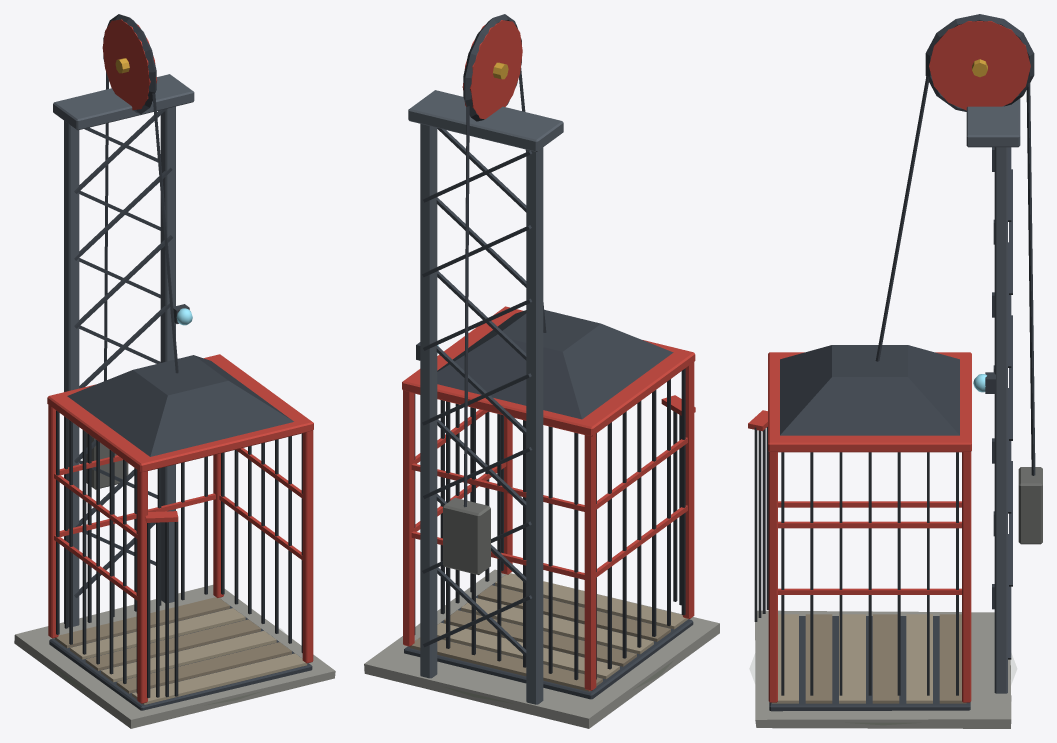
The model's file is lift.glb.
3 renders of one model, left to right at view 1: azimuth 30°, elevation 25°; view 2: azimuth 150°, elevation 25°; view 3: azimuth 270°, elevation 25°, orthographic. The views are drawn at different scales.
Parts seen in each view (by area): view 1: lift; view 2: lift; view 3: lift.
Boxes of the visible parts, x1,y1,x2,y2 form: lift: (14, 14, 335, 728); lift: (364, 14, 719, 728); lift: (748, 14, 1042, 728).
Bounding box in the file's own units: 2 × 5.45 × 2.2.
